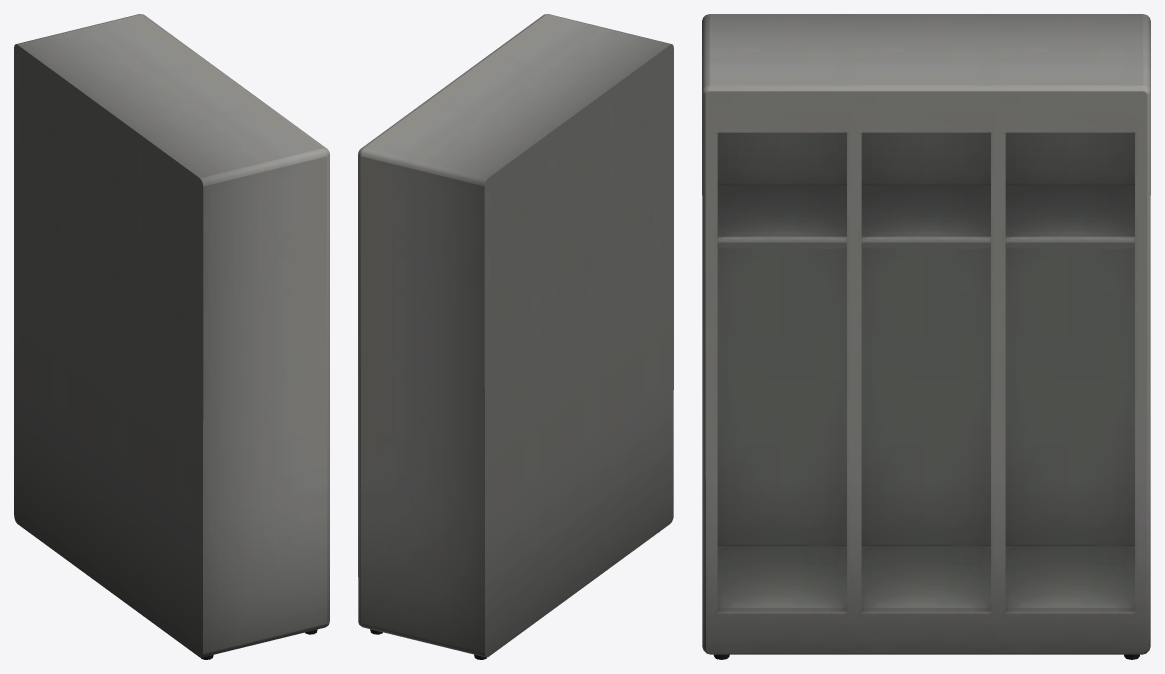
3 renders of one model, left to right at view 1: azimuth 30°, elevation 25°; view 2: azimuth 150°, elevation 25°; view 3: azimuth 270°, elevation 25°, orthographic. The views are drawn at different scales.
Parts seen in each view (by area): view 1: body0_model0_lod0_mesh0; view 2: body0_model0_lod0_mesh0; view 3: body0_model0_lod0_mesh0.
Boxes of the visible parts, box(x1,y1,x2,y2) form: body0_model0_lod0_mesh0: box(14, 14, 329, 659); body0_model0_lod0_mesh0: box(358, 14, 673, 659); body0_model0_lod0_mesh0: box(702, 14, 1150, 659).
Bounding box in the file's own units: 31.24 × 113 × 79.84.
1 material, 1 textured.
